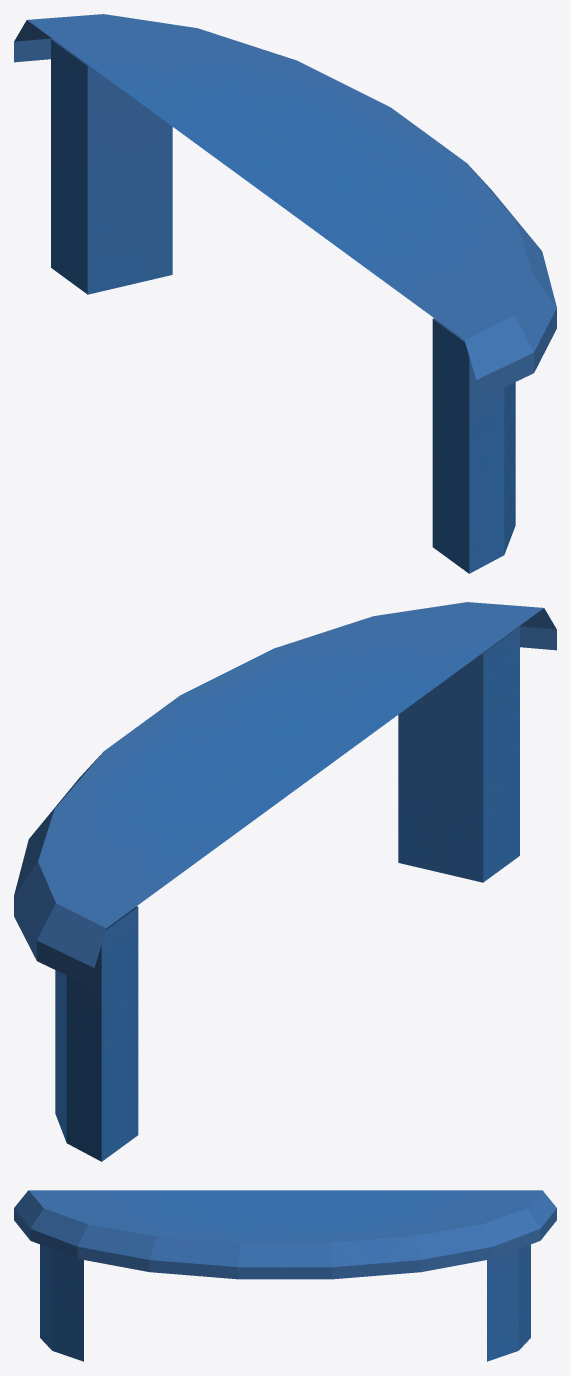
Rendered from MESAHOST_0.3.fbx.
The picture shows the model from 3 angles, top to bottom: view 1: azimuth 30°, elevation 25°; view 2: azimuth 150°, elevation 25°; view 3: azimuth 270°, elevation 25°; orthographic projection. The views are drawn at different scales.
Parts seen in each view (by area): view 1: MESA; view 2: MESA; view 3: MESA.
Part boxes in pixels (bbox=[...]): MESA: bbox=[14, 14, 556, 573]; MESA: bbox=[14, 602, 556, 1161]; MESA: bbox=[14, 1190, 556, 1361].
Size of the model in its own units: 63.6 by 247 by 71.95.
